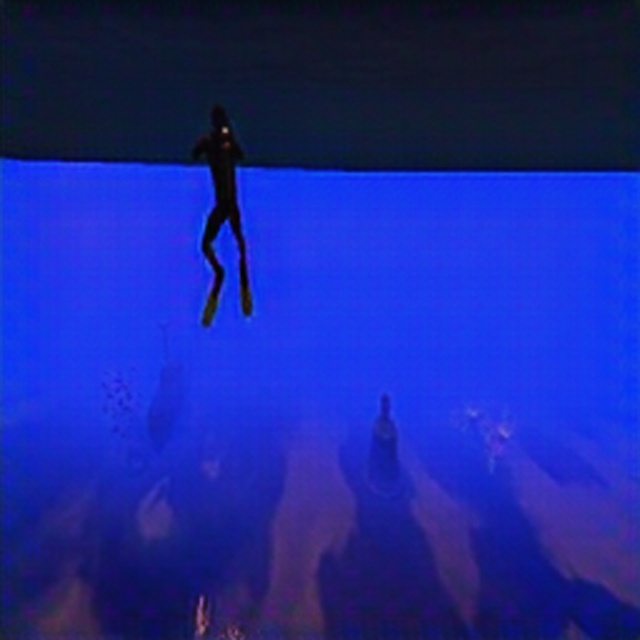diver: (190, 102, 252, 316)
